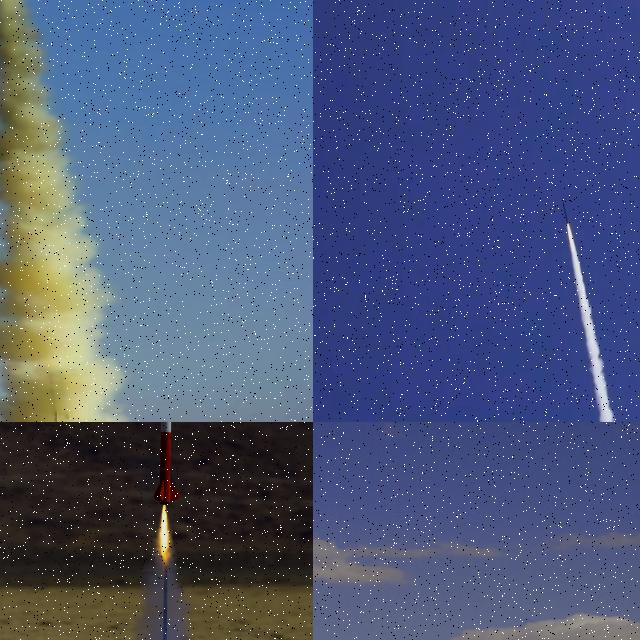Rocket: (151, 422, 181, 506), (562, 202, 570, 224)
